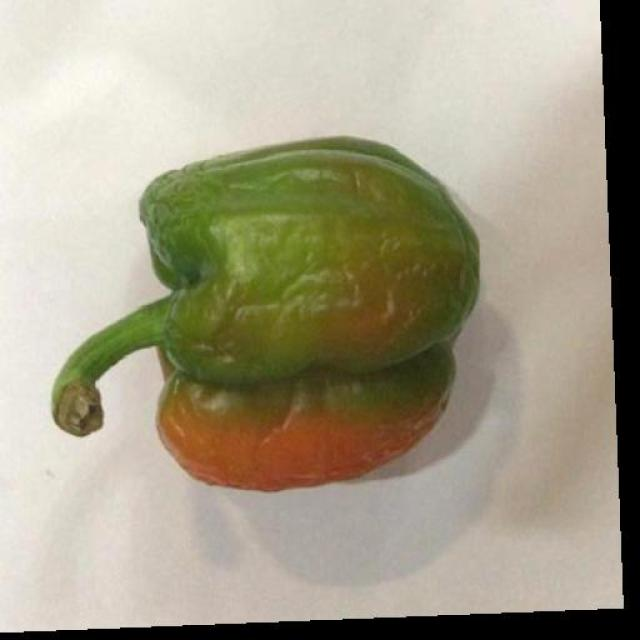Stale_Capsicum: (55, 146, 452, 511)
